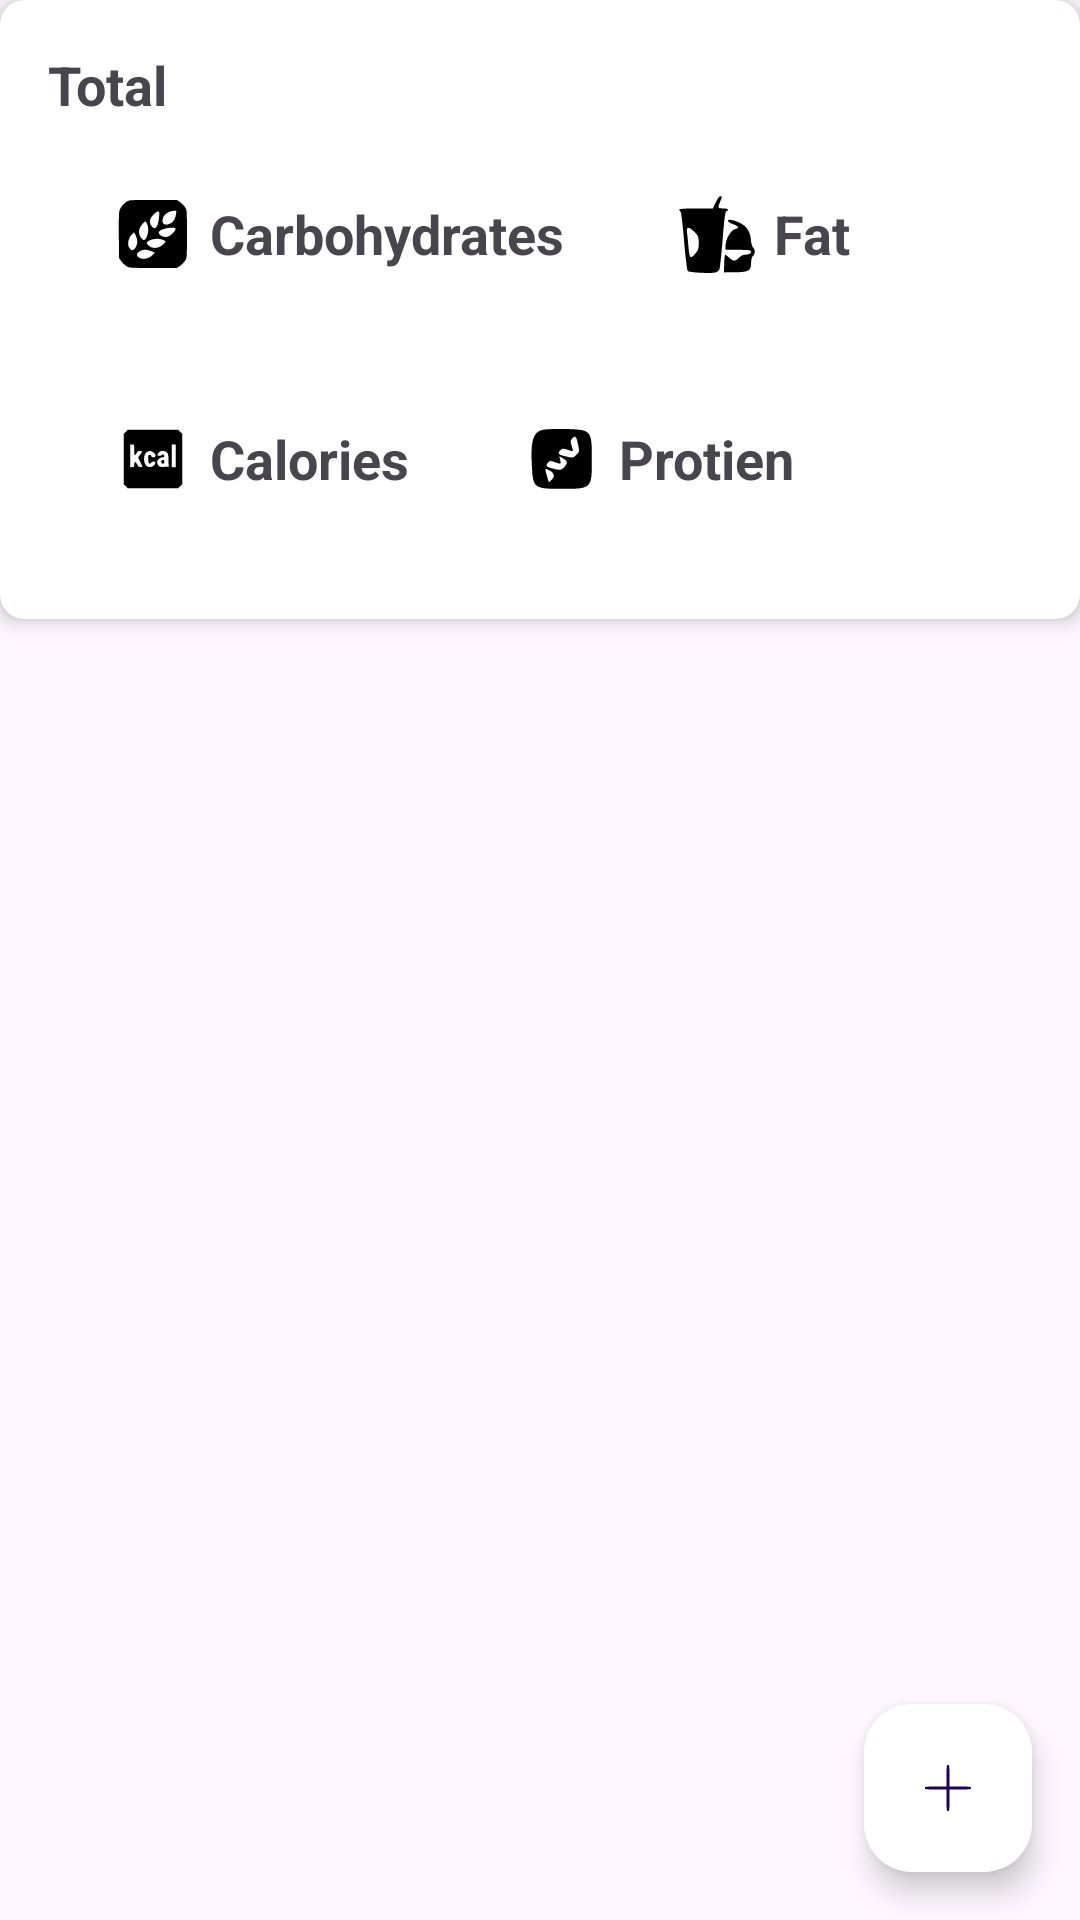

Point at icon controls on the screen. Image size 1080*1920, points as point (x, y).
junk food: point (717, 234)
plus sign: point (948, 1788)
protein: point (561, 459)
